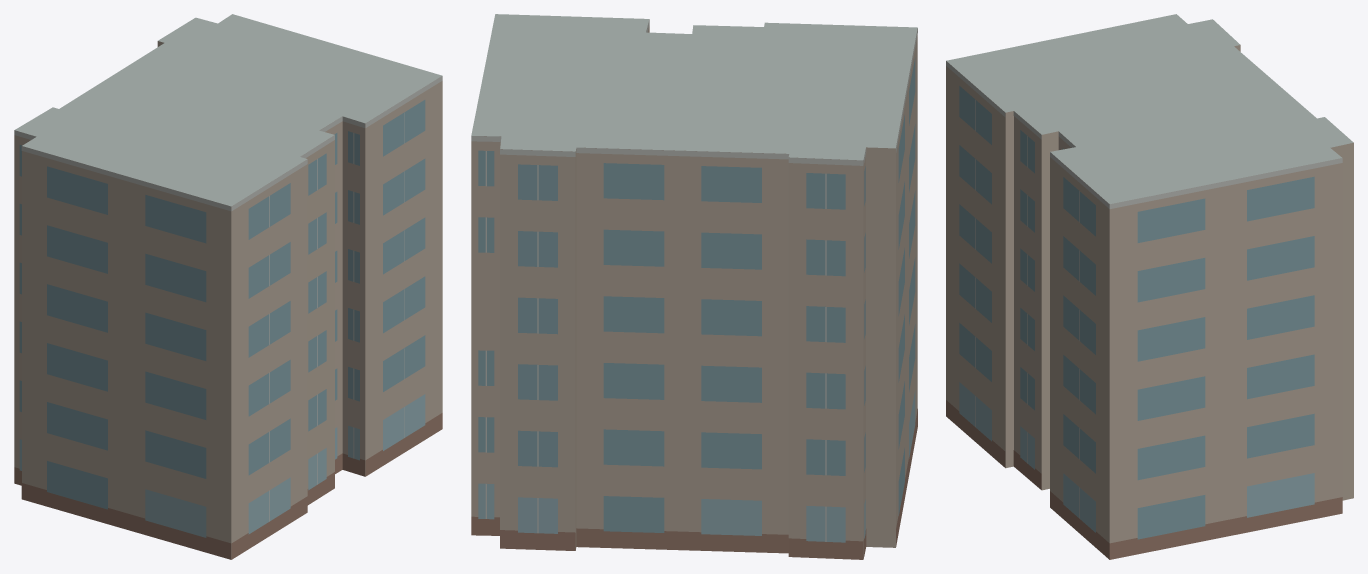
File: survey-upis-33039630.glb
3 views of the same model, side by side, from view 1: azimuth 30°, elevation 25°; view 2: azimuth 150°, elevation 25°; view 3: azimuth 270°, elevation 25° (orthographic). The views are drawn at different scales.
Parts seen in each view (by area): view 1: survey-upis-33039630.tmp; view 2: survey-upis-33039630.tmp; view 3: survey-upis-33039630.tmp.
Boxes of the visible parts, x1,y1,x2,y2 form: survey-upis-33039630.tmp: (14,14,442,559); survey-upis-33039630.tmp: (471,14,917,559); survey-upis-33039630.tmp: (946,14,1353,559).
Bounding box in the file's own units: 20.09 × 17.5 × 18.2.
